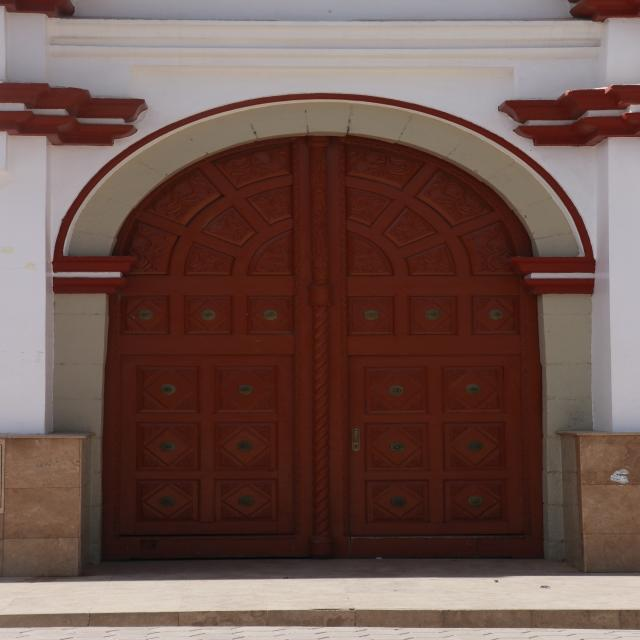PORTADA CENTRAL: (14, 67, 620, 606)
colonial-architecture-: (0, 41, 640, 640)
